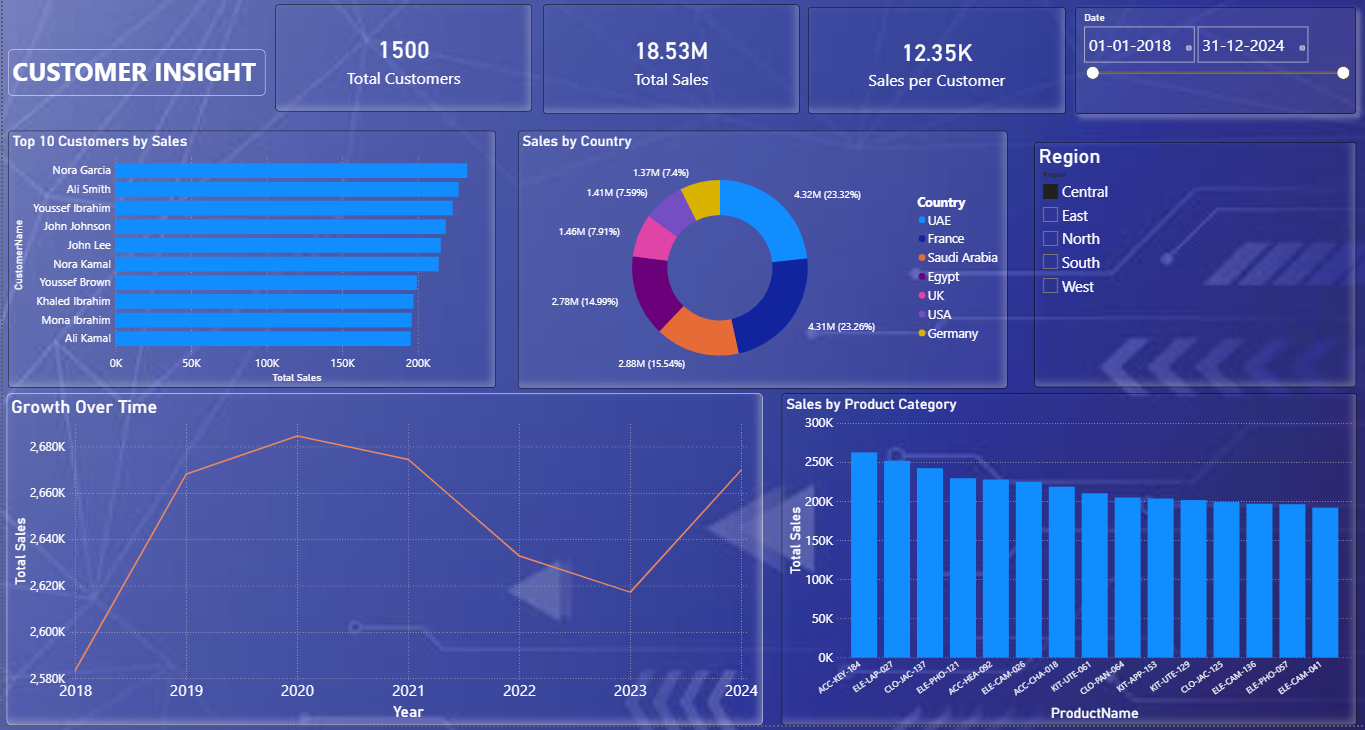

The dashboard page shown, as its layout file describes it:
{"tool":"powerbi","page":{"name":"Page 2","canvas":[2600,1400],"ordinal":1},"visuals":[{"type":"textbox","box":[9.5,109.7,491.5,88.3],"z":0},{"type":"card","fields":{"Values":["DimCustomer.Total Customers"]},"box":[521.1,24,489.8,204.1],"z":1000},{"type":"card","fields":{"Values":["DimCustomer.Sales per Customer"]},"box":[1536.8,28.8,492.2,204.1],"z":2000},{"type":"card","fields":{"Values":["DimCustomer.Total Sales"]},"box":[1030.1,24,489.8,208.9],"z":3000},{"type":"clusteredBarChart","title":"Top 10 Customers by Sales","fields":{"Category":["DimCustomer.CustomerName"],"Y":["DimCustomer.Total Sales"]},"box":[8.4,264.8,931,490.6],"z":4000},{"type":"donutChart","title":"Sales by Country","fields":{"Category":["DimGeography.Country"],"Y":["DimCustomer.Total Sales"]},"box":[982.1,264.1,934.1,492.2],"z":5000},{"type":"slicer","fields":{"Values":["DimDate.Date"]},"box":[2048.2,28.8,535.5,204.1],"z":6000},{"type":"lineChart","title":"Growth Over Time","fields":{"Category":["DimDate.Date.Variation.Date Hierarchy.Year","DimDate.Date.Variation.Date Hierarchy.Quarter","DimDate.Date.Variation.Date Hierarchy.Month","DimDate.Date.Variation.Date Hierarchy.Day"],"Y":["DimCustomer.Total Sales"]},"box":[7.2,766,1443.1,633.9],"z":7000},{"type":"slicer","title":"Region","fields":{"Values":["DimGeography.Region"]},"box":[1969,285.7,614.7,468.2],"z":8000},{"type":"columnChart","title":"Sales by Product Category","fields":{"Category":["DimProduct.ProductName"],"Y":["DimCustomer.Total Sales"]},"box":[1486.3,766,1097.3,633.9],"z":9000}]}

Visuals, with their boxes in screenshot pixels (x1, y1, x2, y2), scaled from the page's 2600x1400 canvas onto the 1365x730 screenshot:
textbox: {"left": 5, "top": 57, "right": 263, "bottom": 103}
card - DimCustomer.Total Customers: {"left": 274, "top": 13, "right": 531, "bottom": 119}
card - DimCustomer.Sales per Customer: {"left": 807, "top": 15, "right": 1065, "bottom": 121}
card - DimCustomer.Total Sales: {"left": 541, "top": 13, "right": 798, "bottom": 121}
"Top 10 Customers by Sales" clusteredBarChart: {"left": 4, "top": 138, "right": 493, "bottom": 394}
"Sales by Country" donutChart: {"left": 516, "top": 138, "right": 1006, "bottom": 394}
slicer - DimDate.Date: {"left": 1075, "top": 15, "right": 1356, "bottom": 121}
"Growth Over Time" lineChart: {"left": 4, "top": 399, "right": 761, "bottom": 729}
"Region" slicer: {"left": 1034, "top": 149, "right": 1356, "bottom": 393}
"Sales by Product Category" columnChart: {"left": 780, "top": 399, "right": 1356, "bottom": 729}
